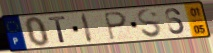0: (23, 16, 52, 48)
6: (164, 8, 187, 37)
I: (80, 12, 95, 44)
P: (103, 11, 129, 42)
S: (136, 8, 164, 40)
T: (47, 15, 68, 44)
